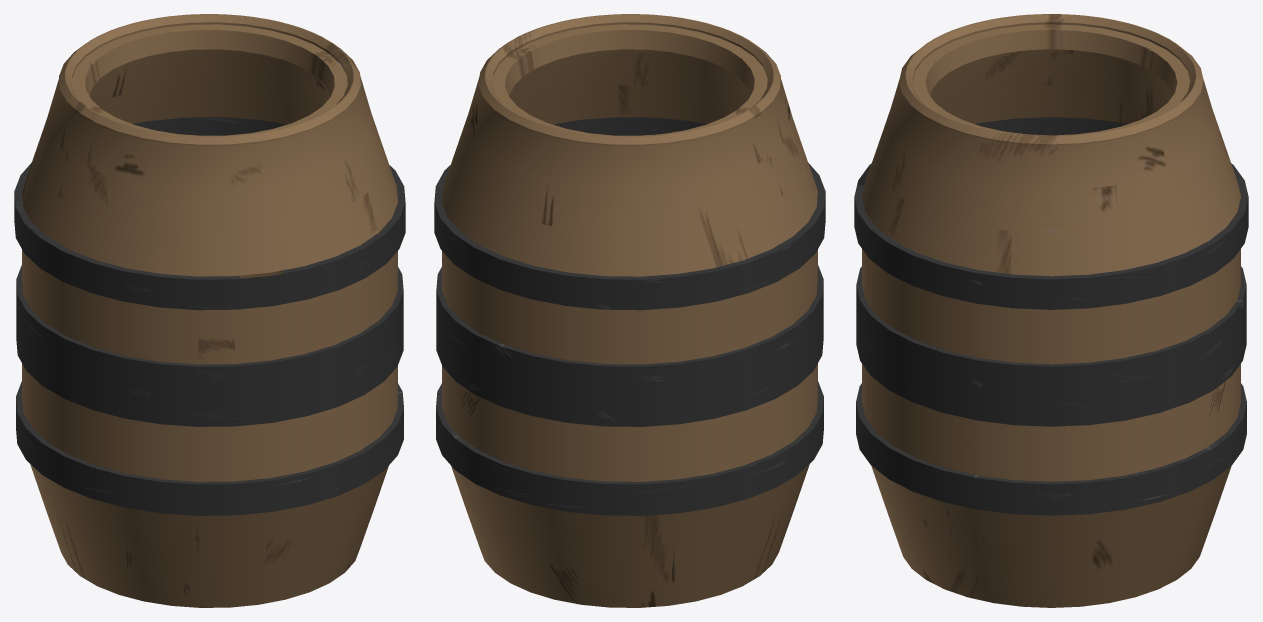
File: tonneaux.fbx
3 views of the same model, side by side, from view 1: azimuth 30°, elevation 25°; view 2: azimuth 150°, elevation 25°; view 3: azimuth 270°, elevation 25° (orthographic).
Parts seen in each view (by area): view 1: tonneau; view 2: tonneau; view 3: tonneau.
Boxes of the visible parts, box(x1,y1,x2,y2) form: tonneau: box(14, 14, 405, 607); tonneau: box(434, 14, 825, 607); tonneau: box(854, 14, 1248, 607).
Bounding box in the file's own units: 179 × 237 × 180.
2 materials, 2 textured.
